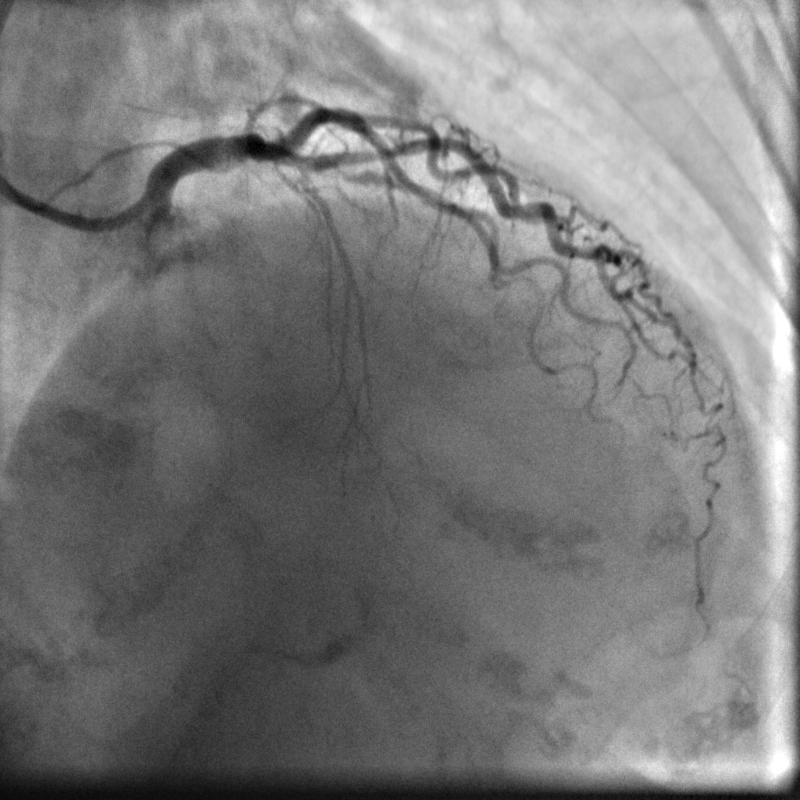Stenosis: (338, 162, 381, 181)
